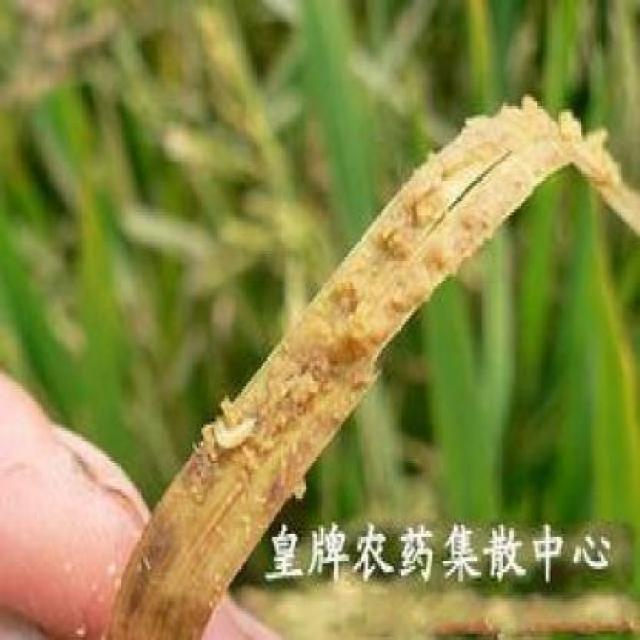whorl-maggot: (209, 416, 262, 462)
